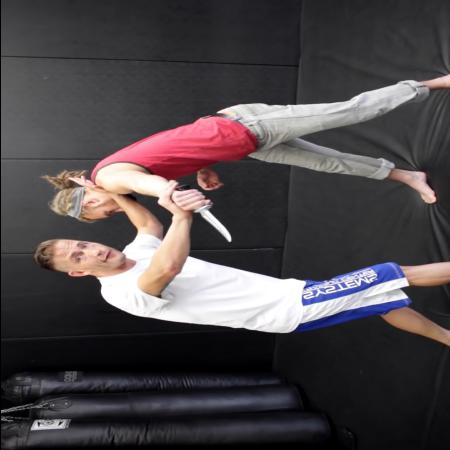long weapon: (171, 182, 238, 244)
